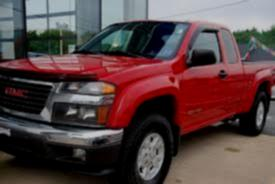GMC: (2, 85, 31, 100)
